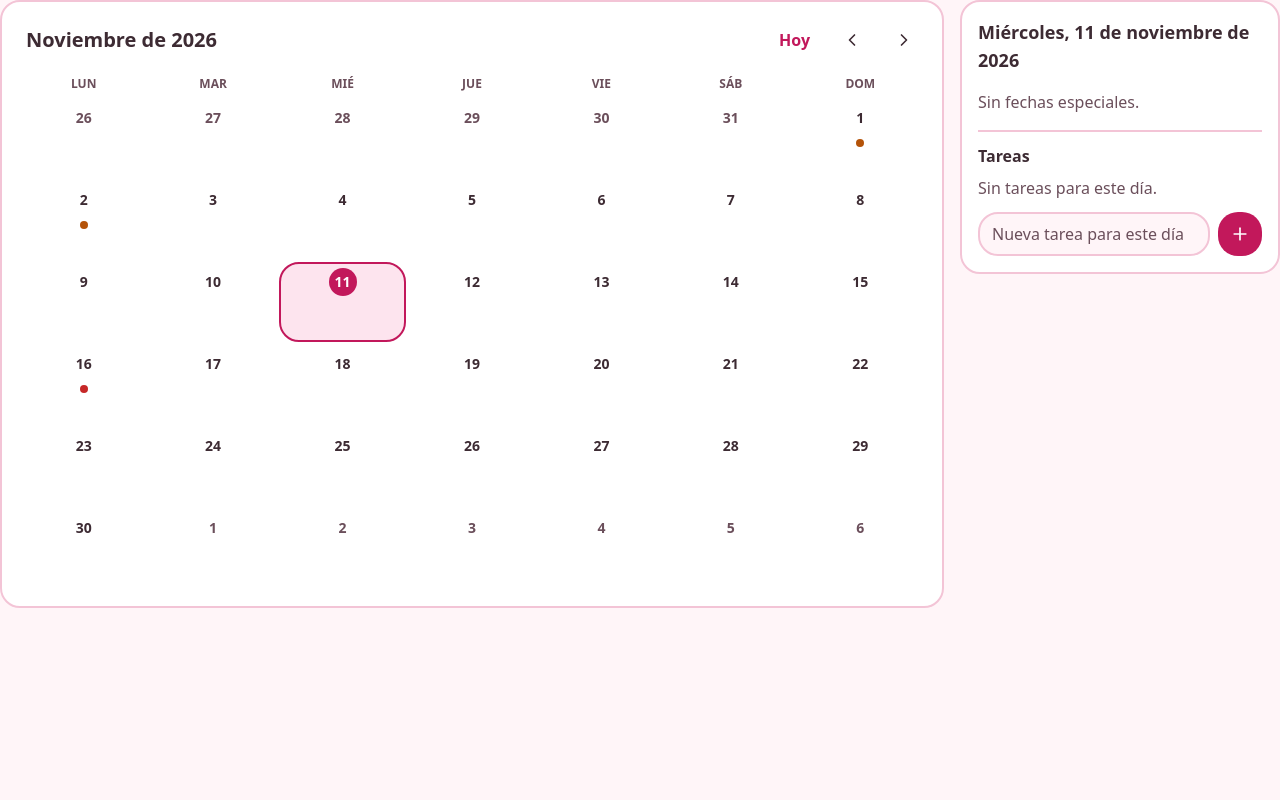
MonthCalendar › navigates with the buttons and returns to today
This screenshot has width=1280, height=800.
Click the button named "Mes siguiente": coordinates (904, 40) [882, 18, 926, 62]
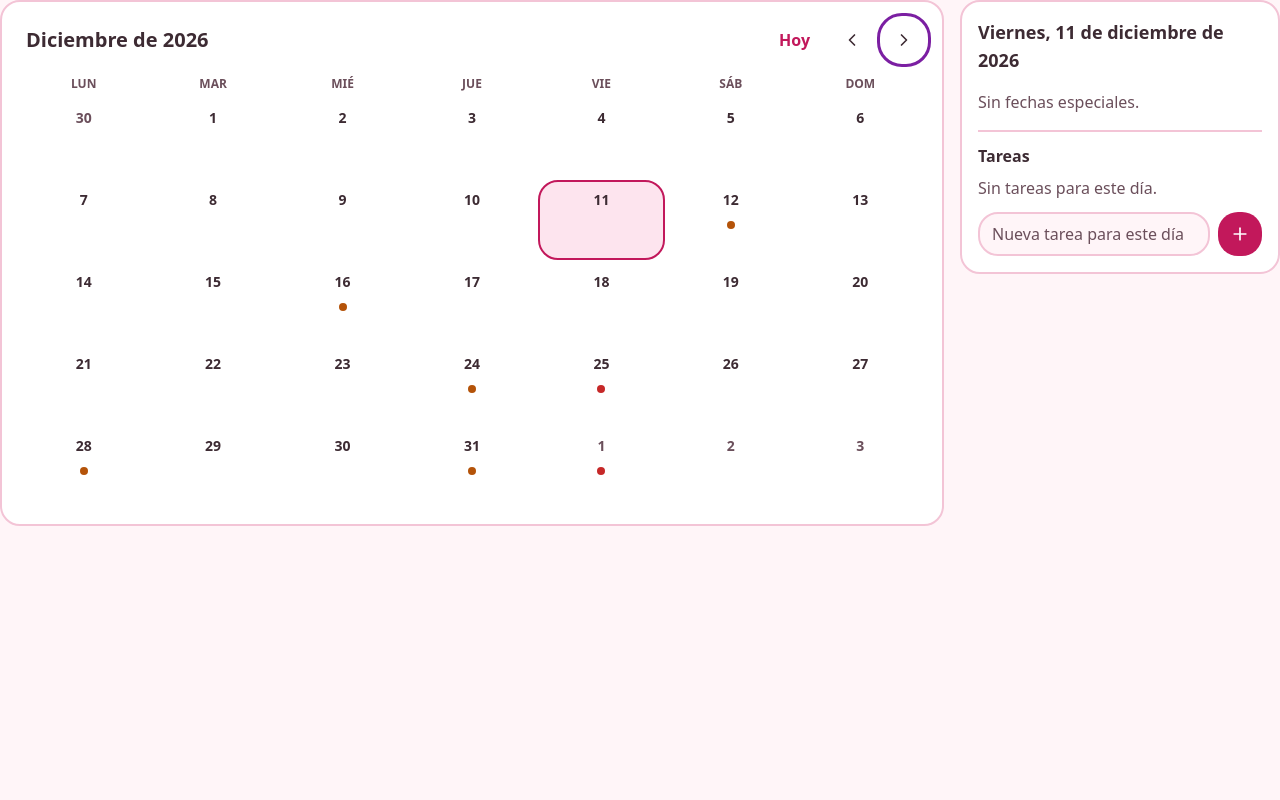
Click the button named "Mes siguiente": coordinates (904, 40) [882, 18, 926, 62]
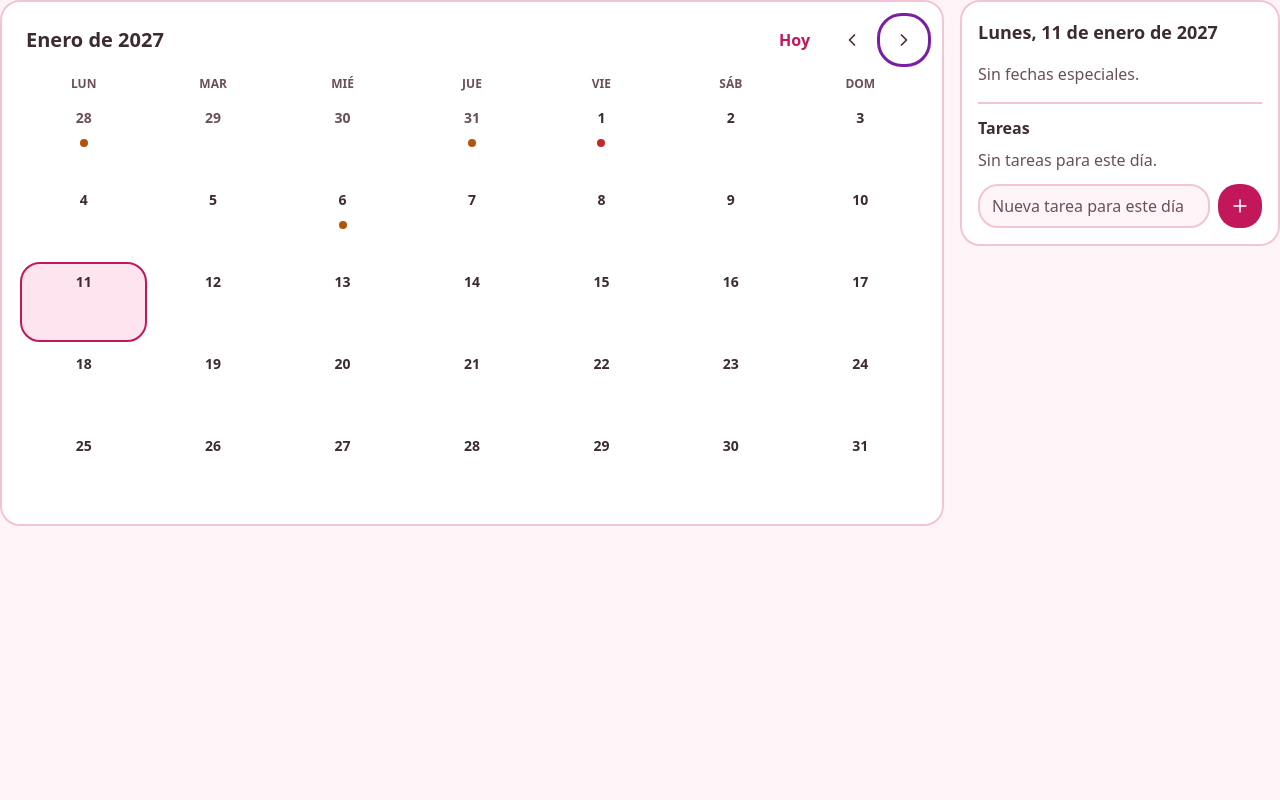
Expected: the heading "enero de 2027" is shown, [26, 26, 164, 53]
Click the button "Hoy": coordinates (795, 40) [767, 18, 822, 62]
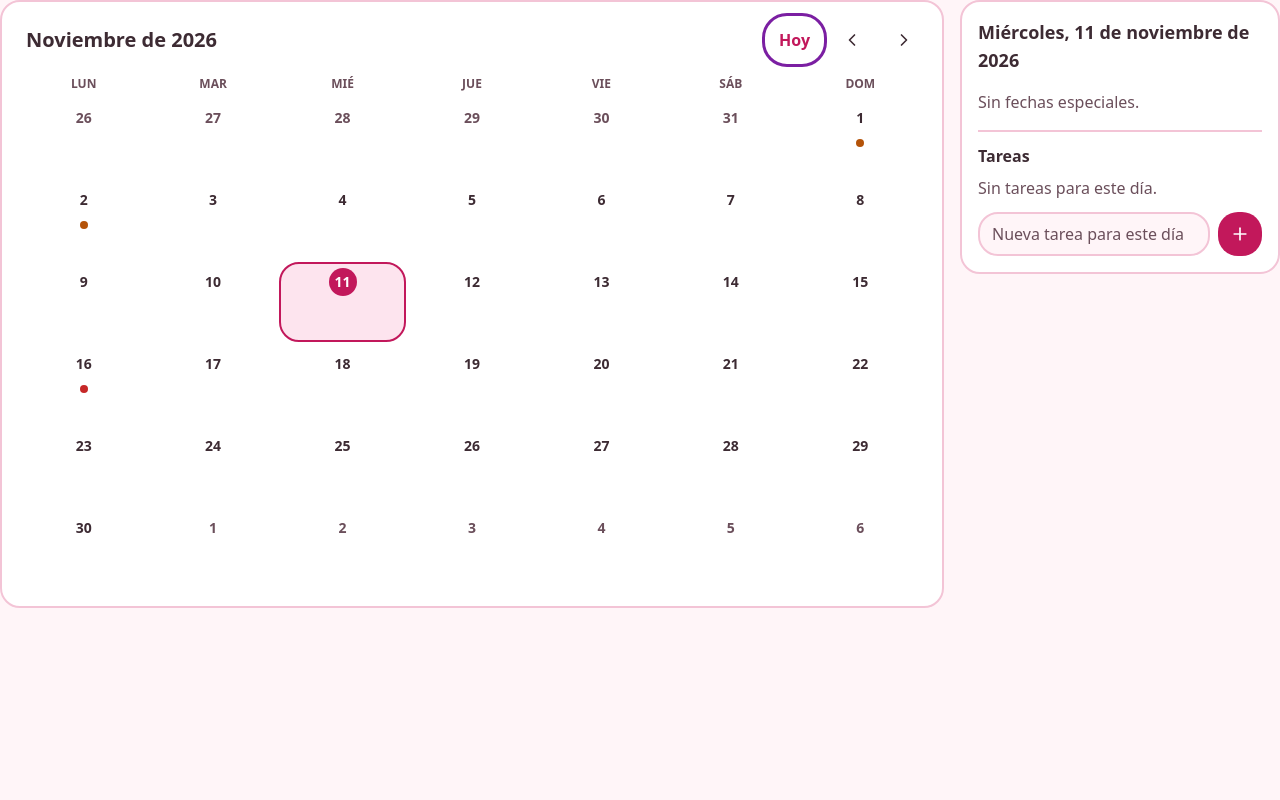
Expected: the heading "noviembre de 2026" is shown, [26, 26, 217, 53]
